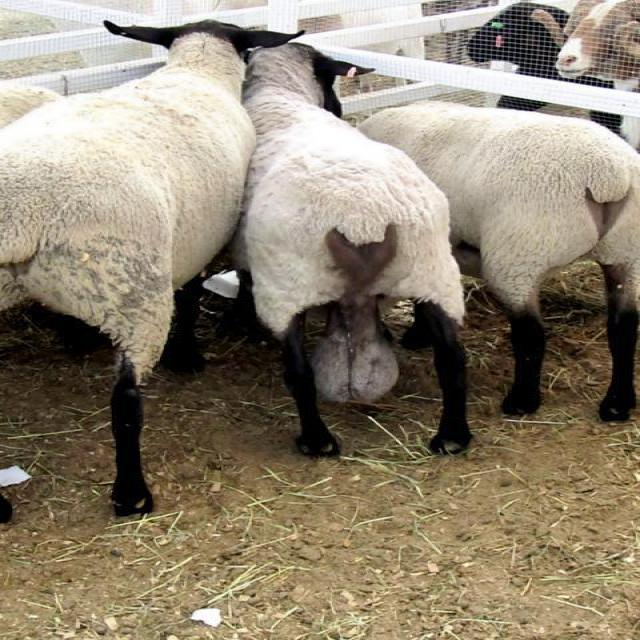Sheep: (3, 21, 305, 516), (231, 44, 469, 458), (346, 103, 638, 425), (460, 0, 624, 139), (530, 0, 638, 90), (0, 6, 88, 80), (340, 5, 412, 95), (0, 87, 57, 134)
